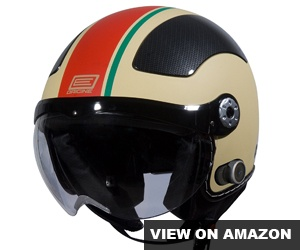with_helmet: (27, 3, 264, 224)
